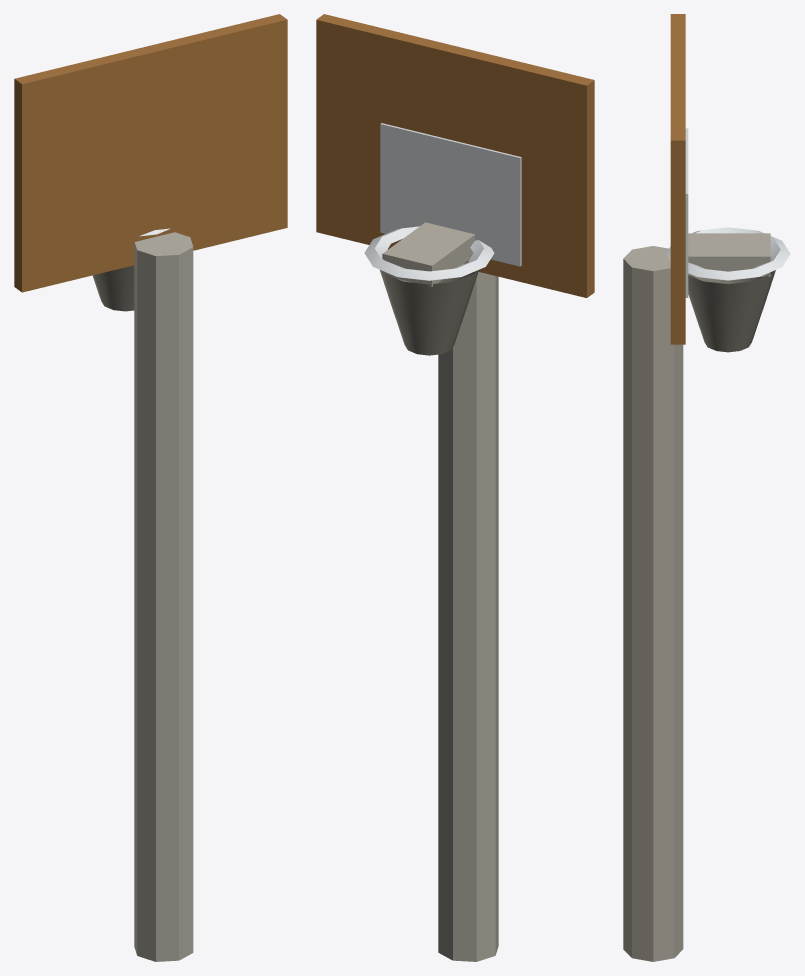
File: env_basketball_ring.obj
3 renders of one model, left to right at view 1: azimuth 30°, elevation 25°; view 2: azimuth 150°, elevation 25°; view 3: azimuth 270°, elevation 25°, orthographic. The views are drawn at different scales.
Parts seen in each view (by area): view 1: BasketballRing; view 2: BasketballRing; view 3: BasketballRing.
Boxes of the visible parts, bbox=[...] form: BasketballRing: bbox=[14, 14, 287, 961]; BasketballRing: bbox=[316, 14, 594, 961]; BasketballRing: bbox=[623, 14, 790, 961].
Size of the model in its own units: 1.2 by 3.85 by 0.67.
